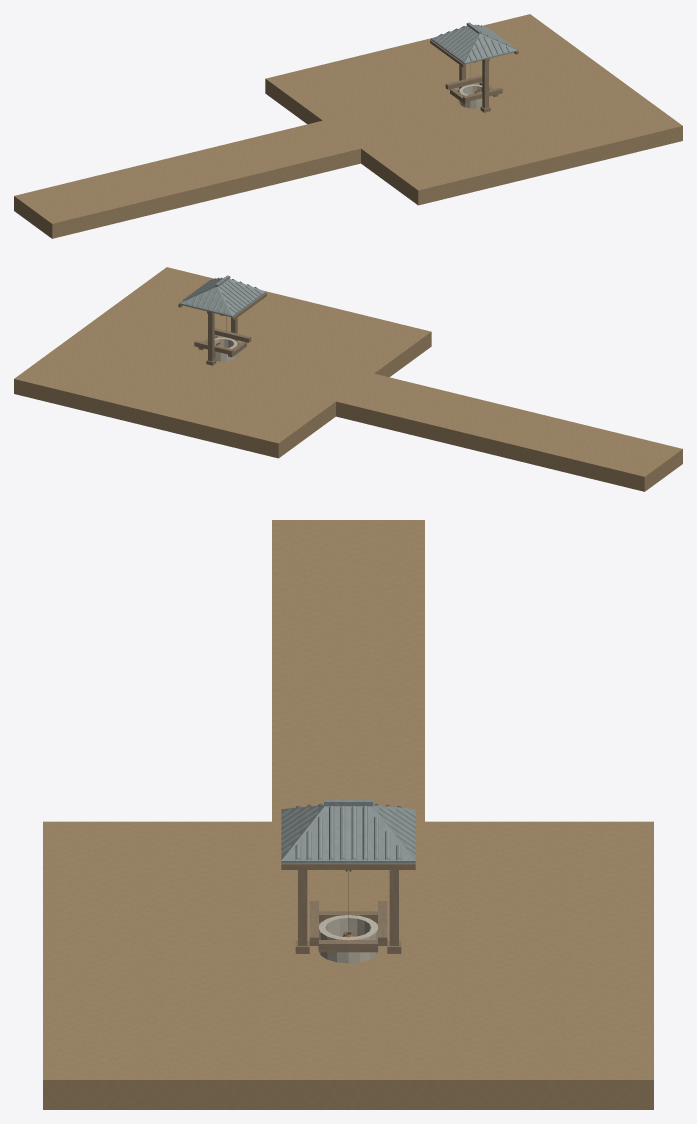
Rendered from z14-well-court-mid.glb.
The picture shows the model from 3 angles, top to bottom: view 1: azimuth 30°, elevation 25°; view 2: azimuth 150°, elevation 25°; view 3: azimuth 270°, elevation 25°; orthographic projection. The views are drawn at different scales.
Visible parts, largest first — view 1: Z14_batched_Z14_NEW_C_EARTH_128, Z14_batched_REUSED_C_tile, Z14_batched_REUSED_C_wood, Z14_batched_REUSED_C_earth; view 2: Z14_batched_Z14_NEW_C_EARTH_128, Z14_batched_REUSED_C_tile, Z14_batched_REUSED_C_wood, Z14_batched_REUSED_C_earth; view 3: Z14_batched_Z14_NEW_C_EARTH_128, Z14_batched_REUSED_C_tile, Z14_batched_REUSED_C_wood, Z14_batched_REUSED_C_earth.
Boxes of the visible parts, <box> form: Z14_batched_Z14_NEW_C_EARTH_128: <box>14,14,682,238</box>; Z14_batched_REUSED_C_tile: <box>431,22,517,64</box>; Z14_batched_REUSED_C_wood: <box>430,40,518,112</box>; Z14_batched_REUSED_C_earth: <box>459,84,482,108</box>; Z14_batched_Z14_NEW_C_EARTH_128: <box>14,267,682,491</box>; Z14_batched_REUSED_C_tile: <box>179,275,265,317</box>; Z14_batched_REUSED_C_wood: <box>178,293,266,365</box>; Z14_batched_REUSED_C_earth: <box>214,337,237,361</box>; Z14_batched_Z14_NEW_C_EARTH_128: <box>43,520,653,1109</box>; Z14_batched_REUSED_C_tile: <box>281,799,415,863</box>; Z14_batched_REUSED_C_wood: <box>281,863,415,953</box>; Z14_batched_REUSED_C_earth: <box>318,915,378,963</box>.
Size of the model in its own units: 26 by 3.9 by 12.
6 materials, 4 textured.
